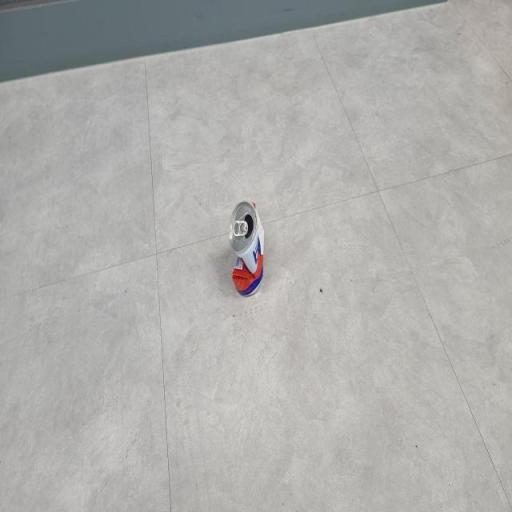metal: (208, 161, 276, 315)
